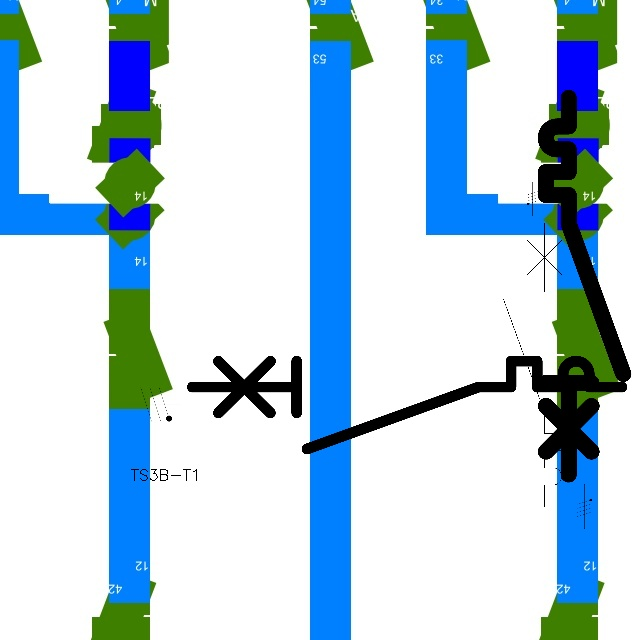interruptor_termomagnetico: (181, 350, 633, 460), (536, 88, 633, 484), (496, 215, 569, 513)
